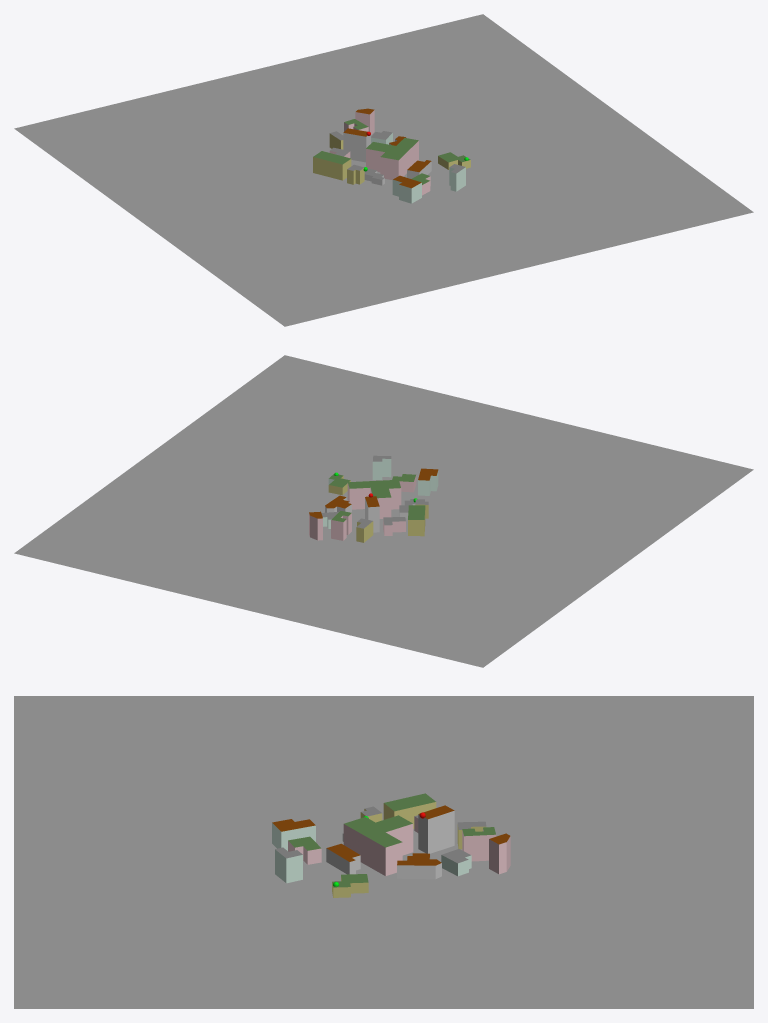
Rendered from 3d_view.glb.
3 renders of one model, top to bottom at view 1: azimuth 30°, elevation 25°; view 2: azimuth 150°, elevation 25°; view 3: azimuth 270°, elevation 25°, orthographic. The views are drawn at different scales.
Visible parts, largest first — view 1: 0; view 2: 0; view 3: 0.
Part boxes in pixels (x1,y1,x2,y2): 0: [14, 14, 753, 326]; 0: [14, 355, 753, 667]; 0: [14, 696, 753, 1008].
Bounding box in the file's own units: 351 × 20.45 × 351.
